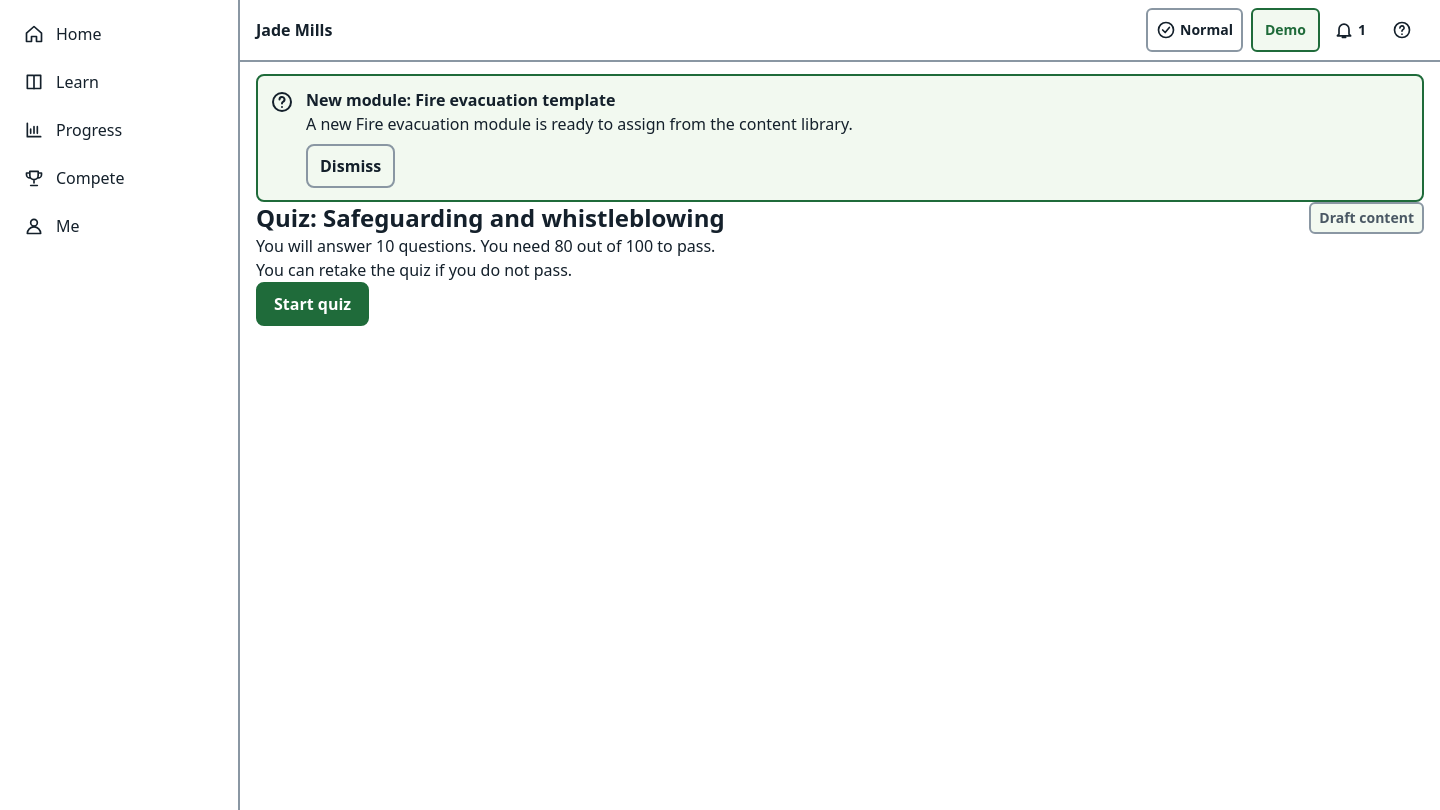
Scenario: S6 quiz › shows the choices as a radio group and keeps Submit answer disabled until one is chosen
Step 1. Click the button "Start quiz" → [313, 304], box [256,282,369,326]
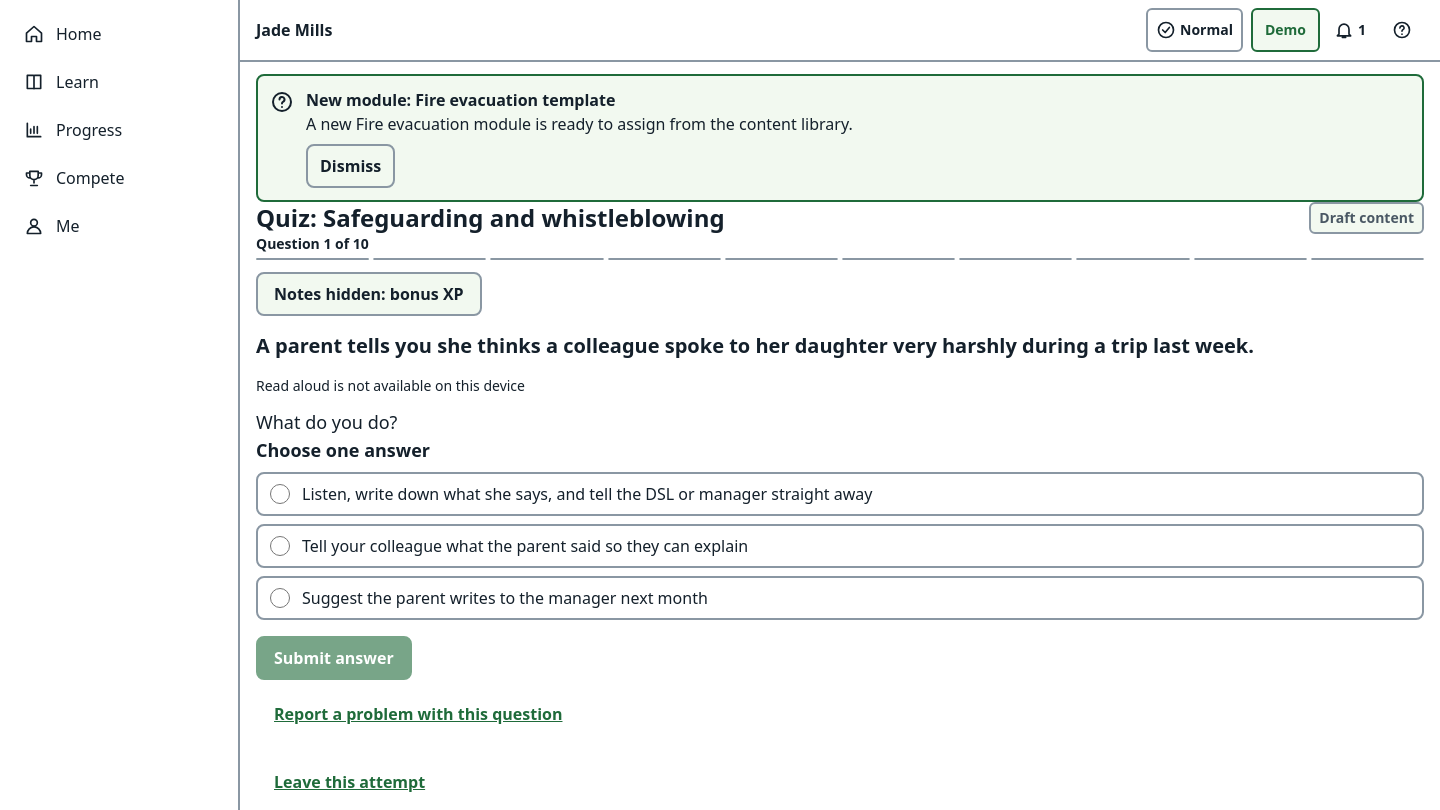
Check: the heading with test id "question-prompt" is shown, box [256,332,1424,360]
Check: the element that starts with "Choose one answer" is shown, box [256,436,1424,620]
Check: the button "Submit answer" is disabled, box [256,636,412,680]
Step 2. Click the 1st radio button → [280, 494], box [270,484,290,504]
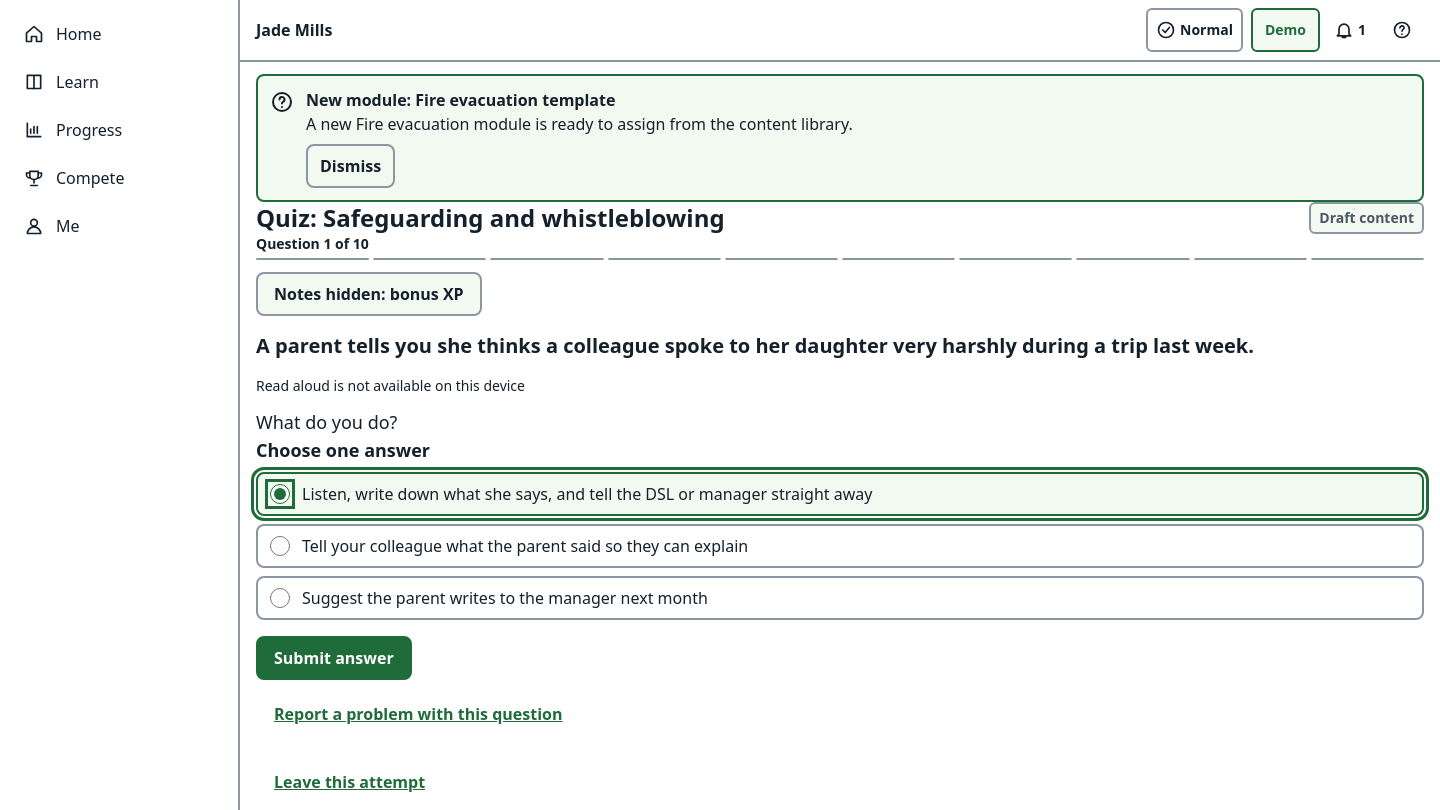
Check: the button "Submit answer" is enabled, box [256,636,412,680]
